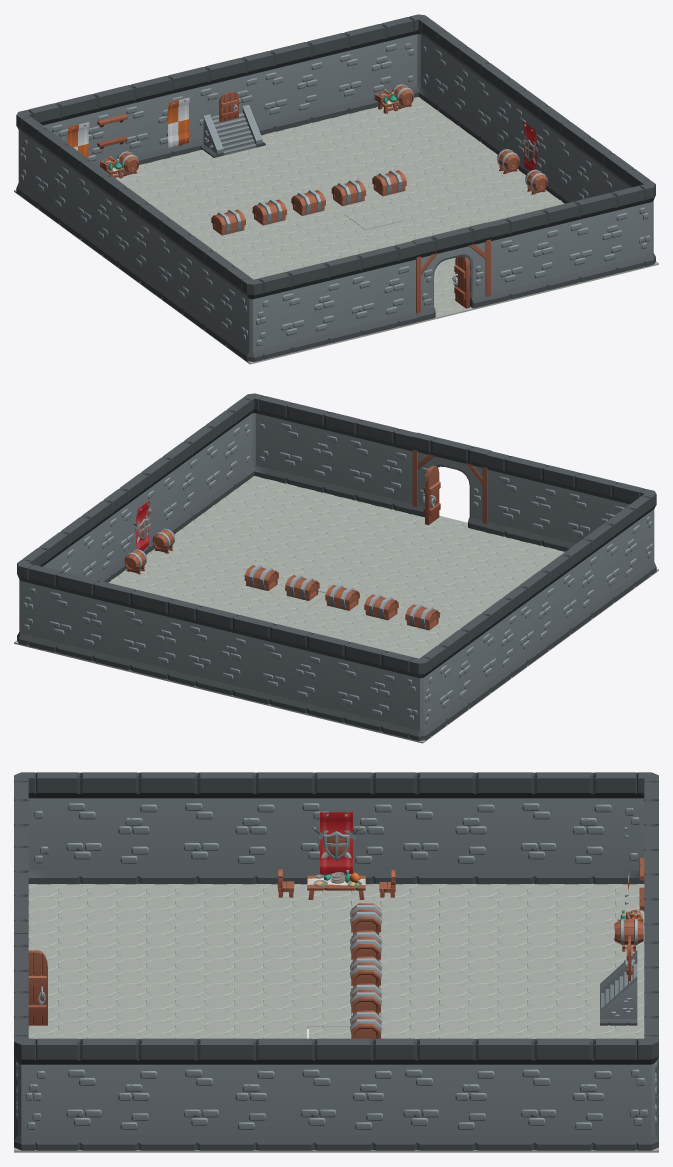
Rendered from floor1.glb.
The picture shows the model from 3 angles, top to bottom: view 1: azimuth 30°, elevation 25°; view 2: azimuth 150°, elevation 25°; view 3: azimuth 270°, elevation 25°; orthographic projection. The views are drawn at different scales.
Parts seen in each view (by area): view 1: wall.009, wall.008, wall.007, wall.004, wall.006, wall.001, wall.003, wall_doorway_scaffold, wall.005, wall.014, wall.015, wall.018 (+76 smaller); view 2: wall.001, wall.003, wall.002, wall.006, wall.004, wall.005, wall.009, wall.007, wall_doorway_scaffold, wall.015, wall.014, wall.018 (+72 smaller); view 3: wall.013, wall.031, wall.010, wall.011, wall.014, wall.015, wall.018, wall.016, wall.012, wall.017, wall_corner.001, wall_corner.003 (+96 smaller).
Boxes of the visible parts, x1,y1,x2,y2 form: wall.009: [338, 241, 417, 339]; wall.008: [268, 258, 347, 357]; wall.007: [487, 205, 565, 303]; wall.004: [251, 37, 330, 135]; wall.006: [559, 188, 635, 285]; wall.001: [325, 19, 404, 118]; wall.003: [111, 71, 190, 164]; wall_doorway_scaffold: [412, 222, 491, 322]; wall.005: [186, 53, 265, 152]; wall.014: [193, 242, 245, 353]; wall.015: [27, 120, 78, 231]; wall.018: [150, 211, 202, 321]; wall.001: [37, 567, 116, 666]; wall.003: [251, 619, 330, 718]; wall.002: [325, 637, 404, 736]; wall.006: [268, 398, 346, 497]; wall.004: [112, 585, 191, 683]; wall.005: [177, 602, 255, 700]; wall.009: [486, 451, 562, 549]; wall.007: [337, 415, 416, 514]; wall_doorway_scaffold: [412, 432, 491, 532]; wall.015: [427, 621, 479, 732]; wall.014: [594, 499, 645, 610]; wall.018: [551, 531, 602, 642]; wall.013: [168, 1038, 285, 1150]; wall.031: [50, 1038, 167, 1150]; wall.010: [505, 1038, 622, 1150]; wall.011: [387, 1038, 504, 1150]; wall.014: [50, 772, 167, 884]; wall.015: [505, 772, 622, 884]; wall.018: [168, 772, 285, 884]; wall.016: [387, 772, 504, 884]; wall.012: [285, 1038, 402, 1150]; wall.017: [285, 772, 402, 884]; wall_corner.001: [622, 1029, 658, 1150]; wall_corner.003: [14, 1029, 50, 1150].
Bounding box in the file's own units: 44.03 × 10.24 × 44.
17 materials, 16 textured.
